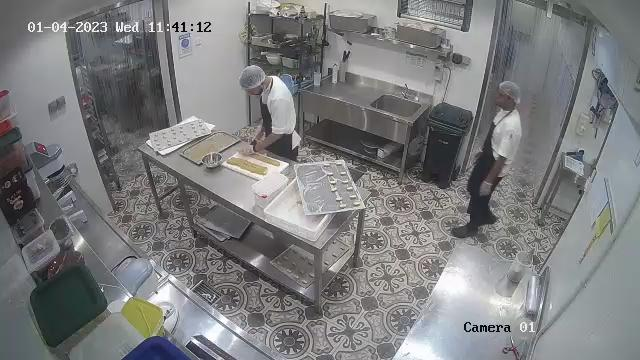apron: (463, 112, 521, 196), (260, 78, 298, 152)
